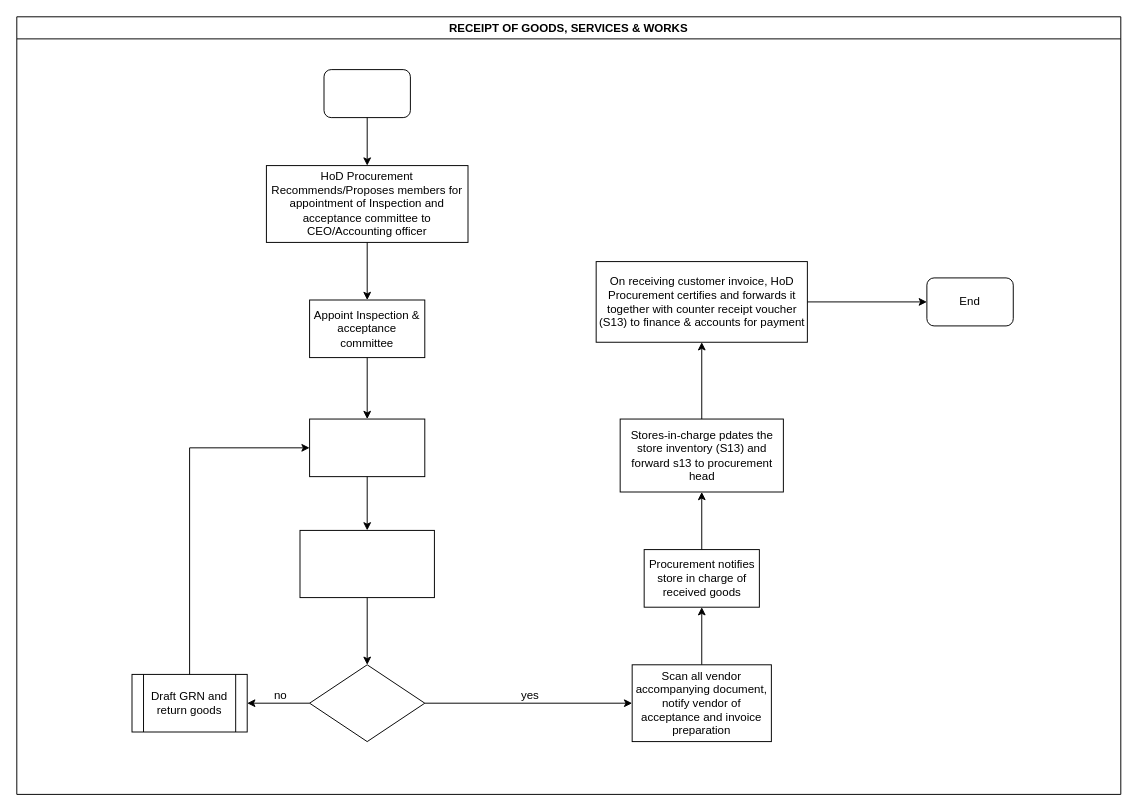
This 1138x811 diagram has some shape labels left out. The shapes that lost their labels are listed below. From the top down, each one's box as (x1, y1, x2, y2) in pixels, then its label:
(323, 69, 410, 118): Start
(309, 418, 425, 477): Goods delivered by the supplier
(299, 529, 434, 598): HoD procurement notifies inspection committee to inspect and acknowledge receipt
(309, 664, 425, 742): Goods Acceptable?
